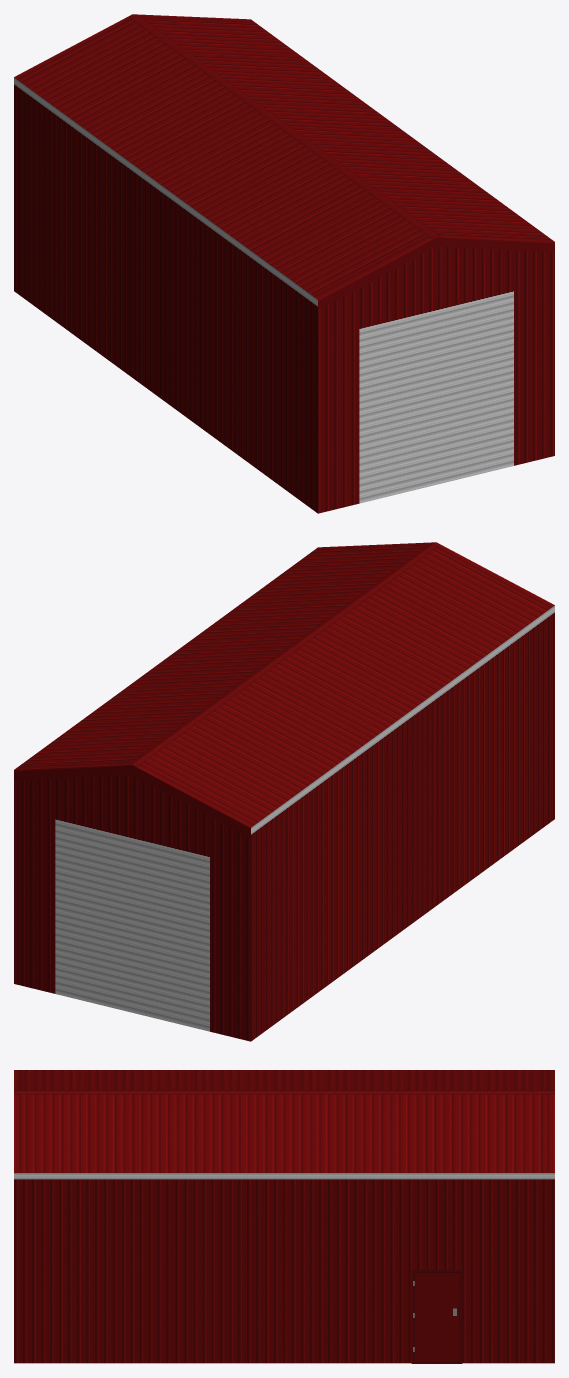
The model's file is medical-trans-station5x12-cbj_LOD01.gltf.
3 views of the same model, one above another, from view 1: azimuth 30°, elevation 25°; view 2: azimuth 150°, elevation 25°; view 3: azimuth 270°, elevation 25° (orthographic). The views are drawn at different scales.
Visible parts, largest first — view 1: Cube01; view 2: Cube01; view 3: Cube01.
Part boxes in pixels (left/top/right/bottom): Cube01: left=14, top=14, right=554, bottom=513; Cube01: left=14, top=542, right=554, bottom=1041; Cube01: left=14, top=1070, right=554, bottom=1363.
Bounding box in the file's own units: 5.43 × 5.4 × 12.
